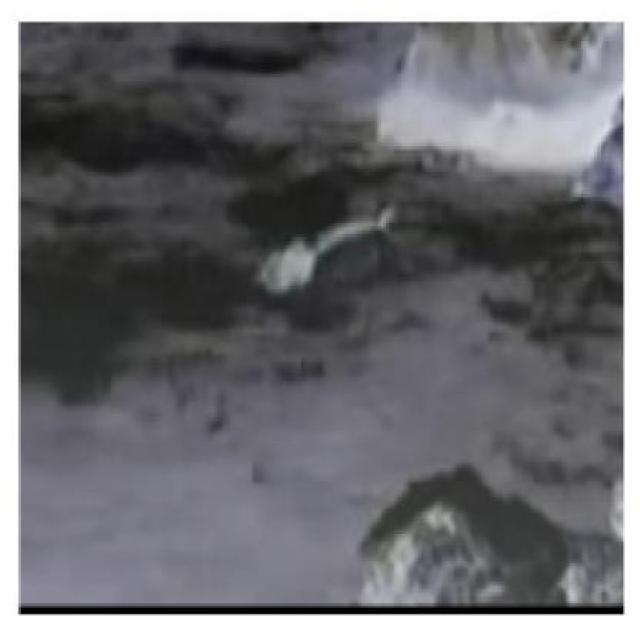drowning: (259, 212, 403, 302)
